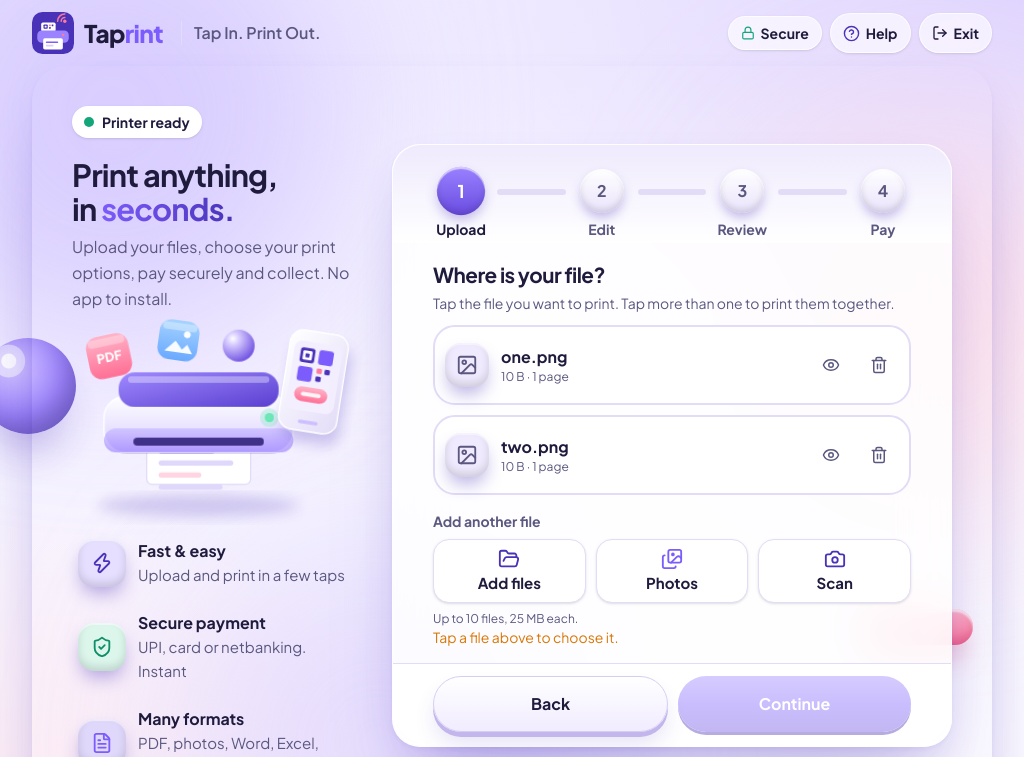
Test: several uploaded files can be ticked and continued together
The width and height of the screenshot is (1024, 757).
Expected: the text "10 B · 1 page" is shown 2 times, [501,369,569,385]; [501,459,569,475]
Expected: the button "Continue" is disabled, [678,676,911,732]
What coordinates should you click on to do the following:
click the button "one.png 10 B · 1 page"
I would click on:
 (467, 365)
Its box is [445,337,803,393].
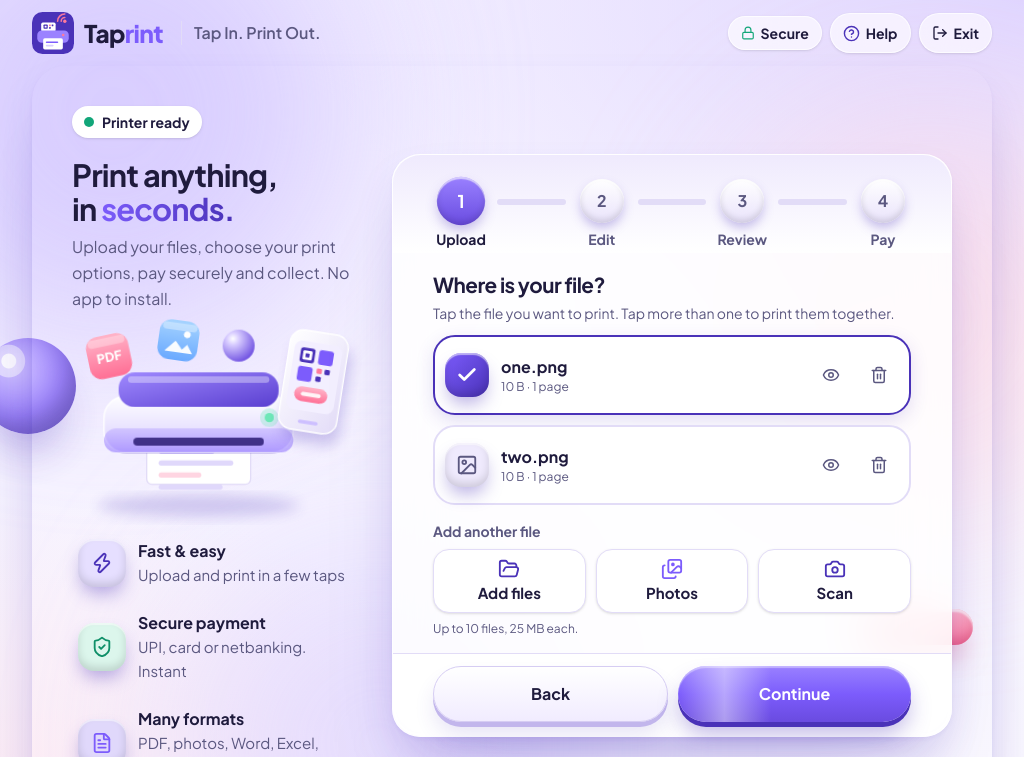
What coordinates should you click on to do the following:
click the button "two.png 10 B · 1 page"
I would click on:
 (467, 465)
Its box is [445,437,803,493].
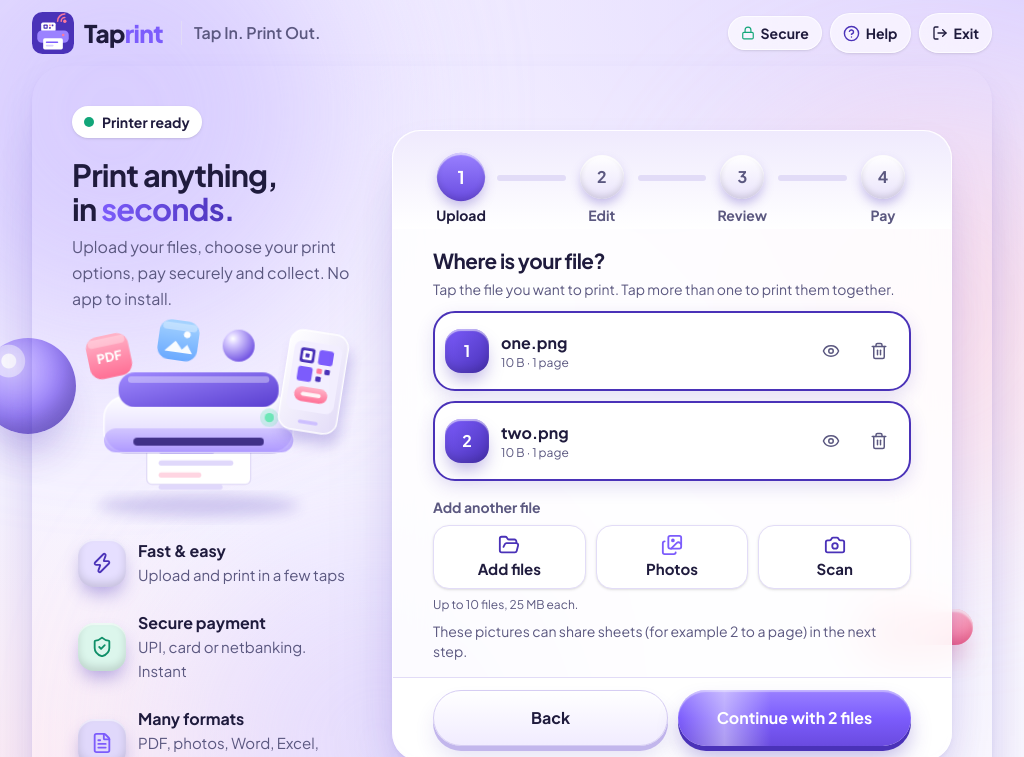
Now the button "Continue with 2 files" is enabled, box [678,690,911,746]
Now the text "These pictures can share sheets (for example 2 to a page) in the next step." is shown, box [433,621,911,661]
